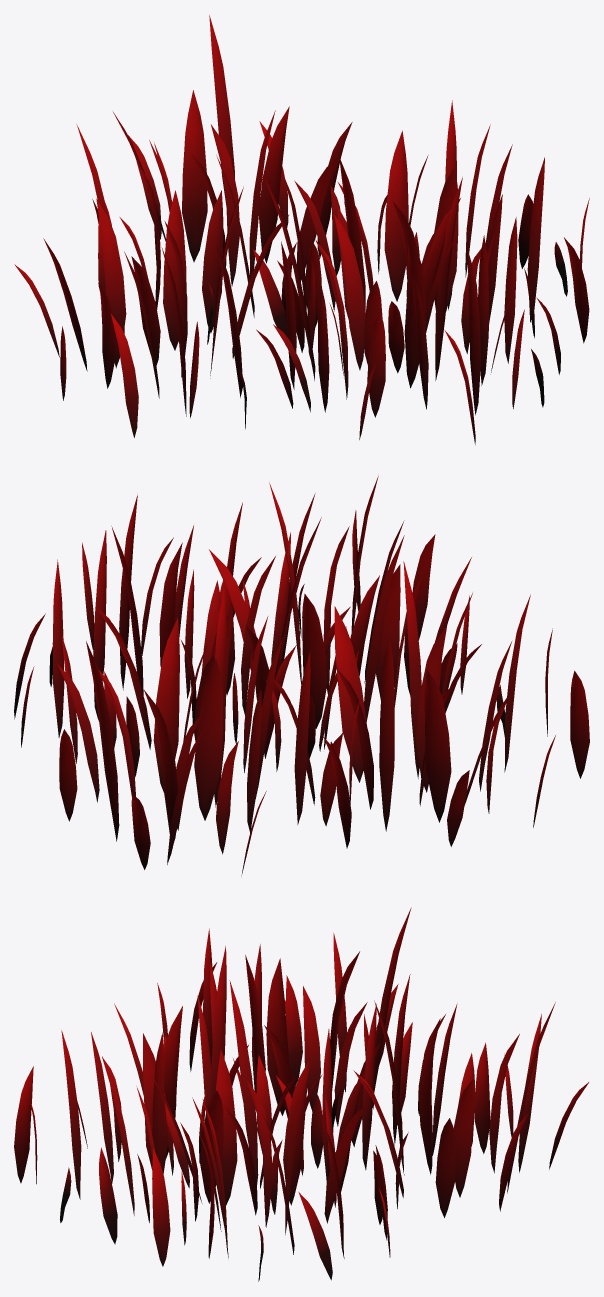
The picture shows the model from 3 angles, top to bottom: view 1: azimuth 30°, elevation 25°; view 2: azimuth 150°, elevation 25°; view 3: azimuth 270°, elevation 25°; orthographic projection. The views are drawn at different scales.
Parts seen in each view (by area): view 1: grass_patch_a1_LOD0; view 2: grass_patch_a1_LOD0; view 3: grass_patch_a1_LOD0.
Boxes of the visible parts, <box> form: grass_patch_a1_LOD0: <box>14,15,589,444</box>; grass_patch_a1_LOD0: <box>14,476,589,875</box>; grass_patch_a1_LOD0: <box>14,907,588,1281</box>.
Size of what is drawn, in the model's own units: 1.02 by 0.4268 by 1.12.
